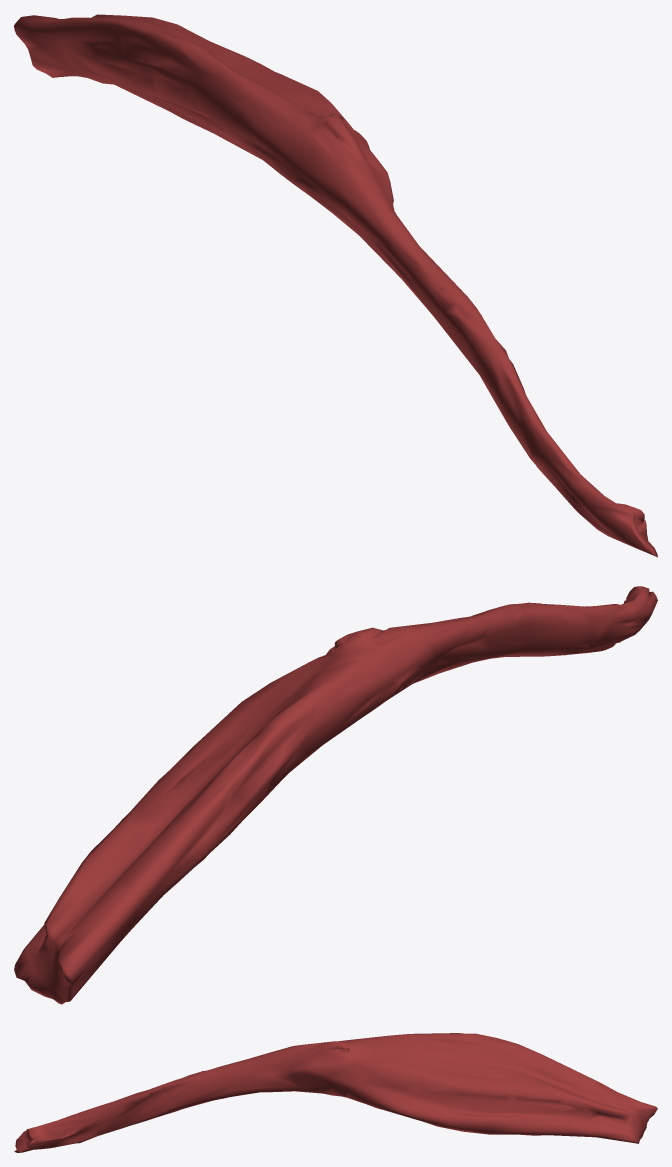
File: abductor-hallucis-l.glb
3 renders of one model, top to bottom at view 1: azimuth 30°, elevation 25°; view 2: azimuth 150°, elevation 25°; view 3: azimuth 270°, elevation 25°, orthographic. The views are drawn at different scales.
Visible parts, largest first — view 1: Abductor hallucis.l; view 2: Abductor hallucis.l; view 3: Abductor hallucis.l.
Boxes of the visible parts, box(x1,y1,x2,y2) form: Abductor hallucis.l: box(14, 14, 657, 557); Abductor hallucis.l: box(14, 586, 657, 1004); Abductor hallucis.l: box(14, 1033, 657, 1152).
Size of the model in its own units: 0.0204 by 0.0269 by 0.1452.
